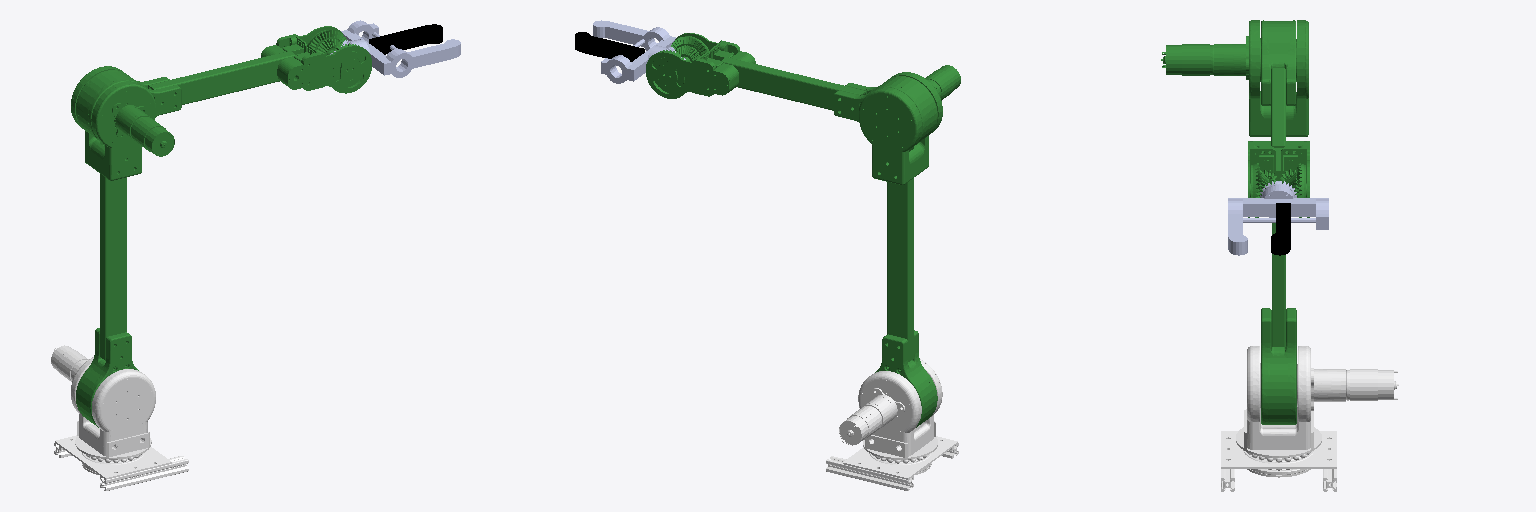
The robot description file, URDF, robot "rover_arm":
<?xml version="1.0" encoding="utf-8"?>
<!-- This URDF was automatically created by SolidWorks to URDF Exporter! Originally created by [author] ([email redacted]) 
     Commit Version: 1.6.0-4-g7f85cfe  Build Version: 1.6.7995.38578
     For more information, please see http://wiki.ros.org/sw_urdf_exporter -->
<robot
  name="rover_arm">
  
    <link name="world"/>

  <joint name="world_joint" type="fixed">
    <parent link="world"/>
    <child link="base_link"/>
    <origin xyz="0 0 0" rpy="0 0 0"/>
  </joint>


  <link
    name="base_link">
    <inertial>
      <origin
        xyz="0.00687930292992112 -5.41233724504764E-16 0.0134758677537272"
        rpy="0 0 0" />
      <mass
        value="0.107549490172523" />
      <inertia
        ixx="0.000129185873904102"
        ixy="1.35843292566697E-19"
        ixz="3.62338947266451E-19"
        iyy="0.000167948580816449"
        iyz="-1.18461477534074E-18"
        izz="0.000292377352216446" />
    </inertial>
    <visual>
      <origin
        xyz="0 0 0"
        rpy="0 0 0" />
      <geometry>
        <mesh
          filename="package://rover_arm/meshes/base_link.STL" />
      </geometry>
      <material
        name="">
        <color
          rgba="0.996078431372549 0.996078431372549 1 1" />
      </material>
    </visual>
    <collision>
      <origin
        xyz="0 0 0"
        rpy="0 0 0" />
      <geometry>
        <mesh
          filename="package://rover_arm/meshes/base_link.STL" />
      </geometry>
    </collision>
  </link>
  <link
    name="shoulder_link">
    <inertial>
      <origin
        xyz="8.32231213188095E-06 0.0203402526286956 0.0551734534765064"
        rpy="0 0 0" />
      <mass
        value="0.855475627966906" />
      <inertia
        ixx="0.00111103760161046"
        ixy="1.94540837133742E-08"
        ixz="2.1295728671634E-08"
        iyy="0.00127941202345426"
        iyz="5.19186552494487E-07"
        izz="0.00084308013698595" />
    </inertial>
    <visual>
      <origin
        xyz="0 0 0"
        rpy="0 0 0" />
      <geometry>
        <mesh
          filename="package://rover_arm/meshes/shoulder_link.STL" />
      </geometry>
      <material
        name="">
        <color
          rgba="0.96078431372549 0.96078431372549 0.964705882352941 1" />
      </material>
    </visual>
    <collision>
      <origin
        xyz="0 0 0"
        rpy="0 0 0" />
      <geometry>
        <mesh
          filename="package://rover_arm/meshes/shoulder_link.STL" />
      </geometry>
    </collision>
  </link>
  <joint
    name="shoulder_joint"
    type="revolute">
    <origin
      xyz="0 0 0.0345"
      rpy="0 0 0" />
    <parent
      link="base_link" />
    <child
      link="shoulder_link" />
    <axis
      xyz="0 0 1" />
    <limit
      lower="-3.14"
      upper="3.14"
      effort="10.5"
      velocity="1.5" />
  </joint>
  <link
    name="upperarm_link">
    <inertial>
      <origin
        xyz="-2.70918179823276E-06 0.034430199275424 0.310830598763632"
        rpy="0 0 0" />
      <mass
        value="1.69162786755335" />
      <inertia
        ixx="0.0101293308172892"
        ixy="-5.91623806826241E-08"
        ixz="-9.28412403243426E-08"
        iyy="0.0105489254219991"
        iyz="-4.30319037658778E-07"
        izz="0.000907812411984246" />
    </inertial>
    <visual>
      <origin
        xyz="0 0 0"
        rpy="0 0 0" />
      <geometry>
        <mesh
          filename="package://rover_arm/meshes/upperarm_link.STL" />
      </geometry>
      <material
        name="">
        <color
          rgba="0.266666666666667 0.588235294117647 0.282352941176471 1" />
      </material>
    </visual>
    <collision>
      <origin
        xyz="0 0 0"
        rpy="0 0 0" />
      <geometry>
        <mesh
          filename="package://rover_arm/meshes/upperarm_link.STL" />
      </geometry>
    </collision>
  </link>
  <joint
    name="upperarm_joint"
    type="revolute">
    <origin
      xyz="0 -0.044706 0.083"
      rpy="0 0 0" />
    <parent
      link="shoulder_link" />
    <child
      link="upperarm_link" />
    <axis
      xyz="0 -1 0" />
    <limit
      lower="-1.57"
      upper="1.57"
      effort="10.5"
      velocity="1.5" />
  </joint>
  <link
    name="elbow_link">
    <inertial>
      <origin
        xyz="0.204722227074469 -0.0419483035815702 -0.00157486053082279"
        rpy="0 0 0" />
      <mass
        value="1.07922630503039" />
      <inertia
        ixx="0.000419181010760536"
        ixy="7.11741809370692E-08"
        ixz="6.10025801738287E-06"
        iyy="0.00391113124957561"
        iyz="-3.06017160267862E-12"
        izz="0.00358543795771881" />
    </inertial>
    <visual>
      <origin
        xyz="0 0 0"
        rpy="0 0 0" />
      <geometry>
        <mesh
          filename="package://rover_arm/meshes/elbow_link.STL" />
      </geometry>
      <material
        name="">
        <color
          rgba="0.266666666666667 0.588235294117647 0.282352941176471 1" />
      </material>
    </visual>
    <collision>
      <origin
        xyz="0 0 0"
        rpy="0 0 0" />
      <geometry>
        <mesh
          filename="package://rover_arm/meshes/elbow_link.STL" />
      </geometry>
    </collision>
  </link>
  <joint
    name="elbow_joint"
    type="revolute">
    <origin
      xyz="0 0.086169 0.497"
      rpy="0 0 0" />
    <parent
      link="upperarm_link" />
    <child
      link="elbow_link" />
    <axis
      xyz="0 -1 0" />
    <limit
      lower="-1.57"
      upper="3.14"
      effort="10.5"
      velocity="1.5" />
  </joint>
  <link
    name="wrist1_link">
    <inertial>
      <origin
        xyz="0.0302374140928486 -0.0029999997213056 5.0144521868134E-10"
        rpy="0 0 0" />
      <mass
        value="0.039237317766174" />
      <inertia
        ixx="1.15363222488905E-05"
        ixy="4.01230758868372E-14"
        ixz="8.39085802463508E-14"
        iyy="6.67525690136622E-06"
        iyz="-7.70014150865565E-14"
        izz="6.60545008536105E-06" />
    </inertial>
    <visual>
      <origin
        xyz="0 0 0"
        rpy="0 0 0" />
      <geometry>
        <mesh
          filename="package://rover_arm/meshes/wrist1_link.STL" />
      </geometry>
      <material
        name="">
        <color
          rgba="0.792156862745098 0.819607843137255 0.933333333333333 1" />
      </material>
    </visual>
    <collision>
      <origin
        xyz="0 0 0"
        rpy="0 0 0" />
      <geometry>
        <mesh
          filename="package://rover_arm/meshes/wrist1_link.STL" />
      </geometry>
    </collision>
  </link>
  <joint
    name="wrist1_joint"
    type="revolute">
    <origin
      xyz="0.40386 -0.039 -0.011"
      rpy="0 0 0" />
    <parent
      link="elbow_link" />
    <child
      link="wrist1_link" />
    <axis
      xyz="0 1 0" />
    <limit
      lower="-1.57"
      upper="1.57"
      effort="10.5"
      velocity="1.5" />
  </joint>
  <link
    name="wrist2_link">
    <inertial>
      <origin
        xyz="0.0412194856485808 -0.0161936654386357 7.08549571259987E-06"
        rpy="0 0 0" />
      <mass
        value="0.132797730298268" />
      <inertia
        ixx="0.000325802306284526"
        ixy="0.000112637927863482"
        ixz="1.47176339144941E-08"
        iyy="0.000208154553092543"
        iyz="-1.50492483398845E-08"
        izz="0.000516192730665238" />
    </inertial>
    <visual>
      <origin
        xyz="0 0 0"
        rpy="0 0 0" />
      <geometry>
        <mesh
          filename="package://rover_arm/meshes/wrist2_link.STL" />
      </geometry>
      <material
        name="">
        <color
          rgba="0.792156862745098 0.819607843137255 0.933333333333333 1" />
      </material>
    </visual>
    <collision>
      <origin
        xyz="0 0 0"
        rpy="0 0 0" />
      <geometry>
        <mesh
          filename="package://rover_arm/meshes/wrist2_link.STL" />
      </geometry>
    </collision>
  </link>
  <joint
    name="wrist2_joint"
    type="revolute">
    <origin
      xyz="0.049 -0.003 0"
      rpy="0 0 0" />
    <parent
      link="wrist1_link" />
    <child
      link="wrist2_link" />
    <axis
      xyz="-1 0 0" />
    <limit
      lower="-3.14"
      upper="3.14"
      effort="10.5"
      velocity="1.5" />
  </joint>
  <link
    name="ee_link">
    <inertial>
      <origin
        xyz="-0.045802 0.0041133 -0.00845"
        rpy="0 0 0" />
      <mass
        value="0.054422" />
      <inertia
        ixx="4.2801E-06"
        ixy="2.2691E-06"
        ixz="1.4323E-07"
        iyy="6.8002E-05"
        iyz="-3.0715E-09"
        izz="6.801E-05" />
    </inertial>
    <visual>
      <origin
        xyz="0 0 0"
        rpy="0 0 0" />
      <geometry>
        <mesh
          filename="package://rover_arm/meshes/ee_link.STL" />
      </geometry>
      <material
        name="">
        <color
          rgba="0 0 0 1" />
      </material>
    </visual>
    <collision>
      <origin
        xyz="0 0 0"
        rpy="0 0 0" />
      <geometry>
        <mesh
          filename="package://rover_arm/meshes/ee_link.STL" />
      </geometry>
    </collision>
  </link>
  <joint
    name="ee_joint"
    type="fixed">
    <origin
      xyz="0.13 0.002 0.01"
      rpy="0 0 0" />
    <parent
      link="wrist2_link" />
    <child
      link="ee_link" />
    <axis
      xyz="0 0 0" />
  </joint>
  <link name="ee_rotation_z"/>
    <joint name="ee_rotation_joint_z" type="revolute">
      <origin xyz="0 0 0" rpy="0 0 0"/>
      <parent link="ee_link"/>
      <child link="ee_rotation_z"/>
      <axis xyz="0 0 1"/>
      <limit lower="-3.1416" upper="3.1416" effort="10.5" velocity="1.5"/>
    </joint>
</robot>

--- What the picture shows (computed from the rendered views, not written in the file) ---
The picture shows the robot from 3 angles, left to right: view 1: azimuth 30°, elevation 25°; view 2: azimuth 150°, elevation 25°; view 3: azimuth 270°, elevation 25°; orthographic projection.
Model rover_arm with 9 links and 8 joints (6 revolute, 2 fixed), rooted at world, posed all joints at 0.
Links seen in each view (by area): view 1: upperarm_link, elbow_link, shoulder_link, base_link, wrist2_link, ee_link; view 2: upperarm_link, elbow_link, shoulder_link, base_link, wrist2_link, ee_link; view 3: upperarm_link, shoulder_link, elbow_link, wrist2_link, base_link, ee_link.
Link boxes in pixels (<box>): upperarm_link: <box>71,66,174,427</box>; elbow_link: <box>76,26,371,139</box>; shoulder_link: <box>51,345,155,474</box>; base_link: <box>54,435,188,490</box>; wrist2_link: <box>341,20,460,77</box>; ee_link: <box>369,24,442,54</box>; upperarm_link: <box>859,65,960,427</box>; elbow_link: <box>646,33,937,146</box>; shoulder_link: <box>839,359,942,474</box>; base_link: <box>826,436,958,490</box>; wrist2_link: <box>593,20,675,83</box>; ee_link: <box>575,32,644,61</box>; upperarm_link: <box>1161,20,1308,424</box>; shoulder_link: <box>1236,346,1398,477</box>; elbow_link: <box>1248,20,1309,217</box>; wrist2_link: <box>1228,190,1328,255</box>; base_link: <box>1221,431,1336,491</box>; ee_link: <box>1271,203,1290,255</box>.
Size in the robot's own frame: 0.6554 by 0.3302 by 0.6722 metres.
Meshes: 7 distinct files referenced, 7 mesh visuals loaded (7 binary STL).